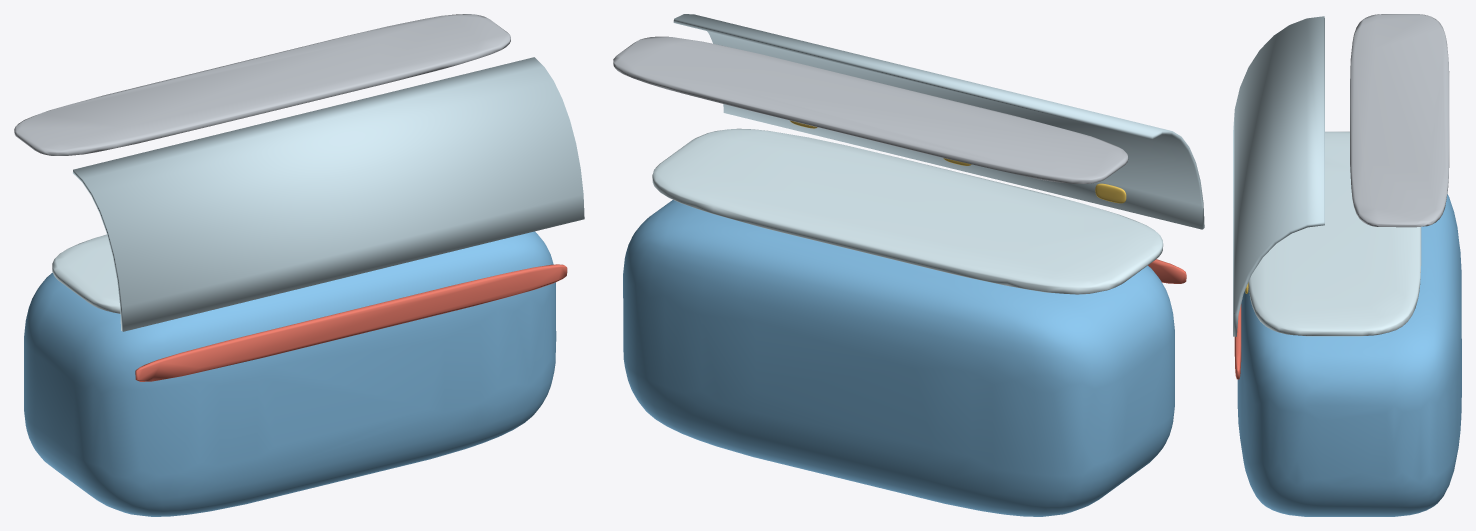
File: vitrina_vitrina_2.glb
The picture shows the model from 3 angles, left to right: view 1: azimuth 30°, elevation 25°; view 2: azimuth 150°, elevation 25°; view 3: azimuth 270°, elevation 25°; orthographic projection. The views are drawn at different scales.
Parts seen in each view (by area): view 1: base.005, vidrio curvo.001, techo.003, franja.003, bandeja.003; view 2: base.005, bandeja.003, techo.003, vidrio curvo.001; view 3: base.005, techo.003, vidrio curvo.001, bandeja.003, franja.003.
Part boxes in pixels (x1,y1,x2,y2): base.005: (24, 231, 556, 516); vidrio curvo.001: (73, 57, 584, 331); techo.003: (14, 14, 510, 155); franja.003: (135, 264, 567, 381); bandeja.003: (52, 234, 120, 313); base.005: (623, 200, 1174, 516); bandeja.003: (652, 128, 1163, 294); techo.003: (613, 36, 1128, 183); vidrio curvo.001: (673, 14, 1204, 229); base.005: (1237, 194, 1461, 516); techo.003: (1350, 14, 1449, 227); vidrio curvo.001: (1233, 16, 1324, 336); bandeja.003: (1248, 131, 1421, 336); franja.003: (1234, 304, 1241, 379).
Size of the model in its own units: 1.6 by 1.15 by 0.7333.
